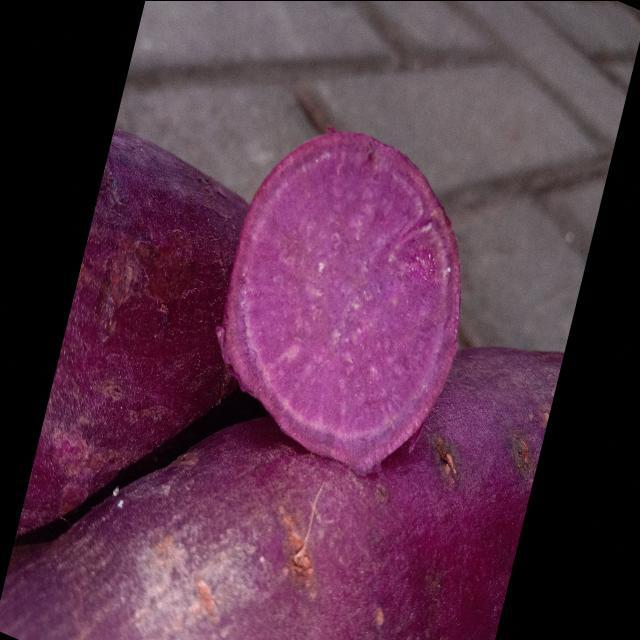Healthy Sweet Potato: (218, 130, 460, 472)
